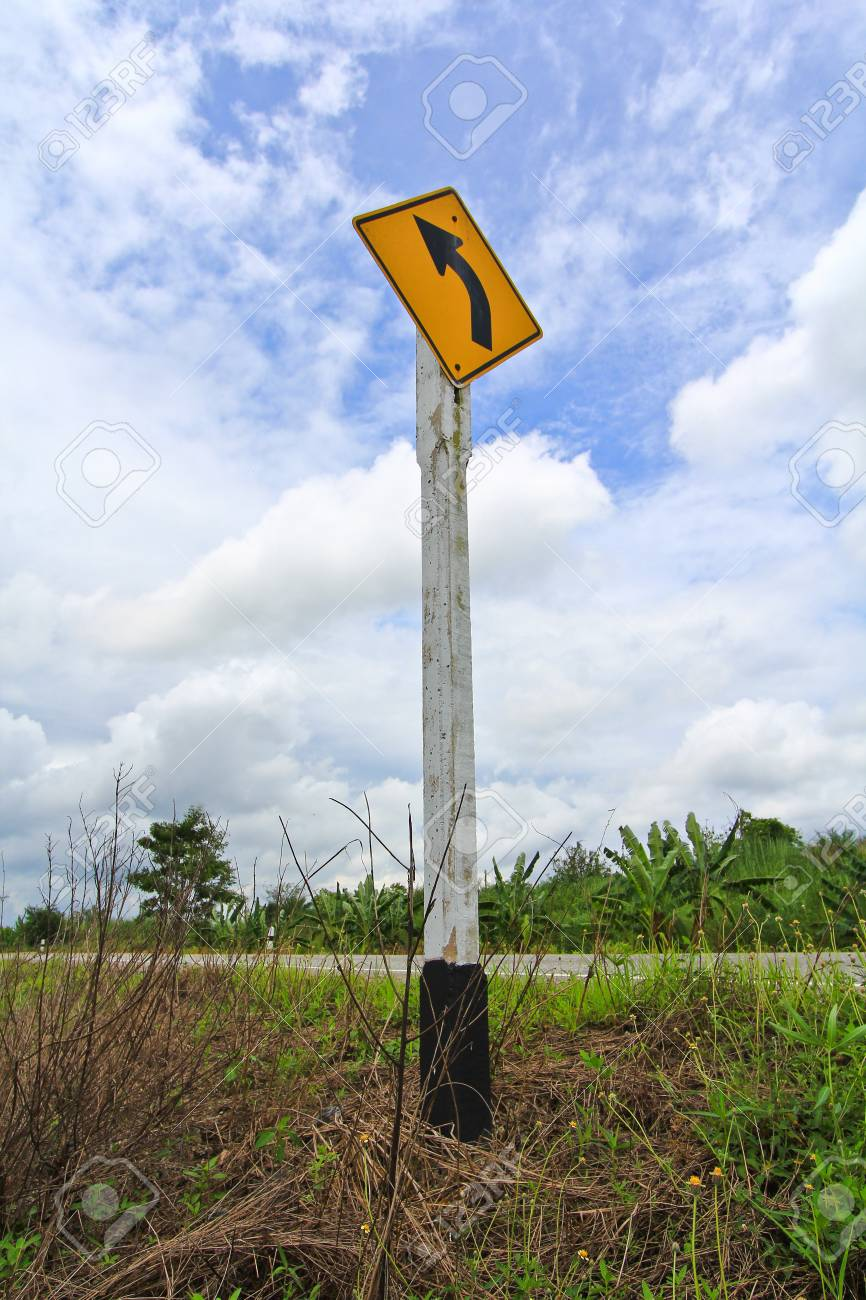left: (341, 175, 551, 391)
